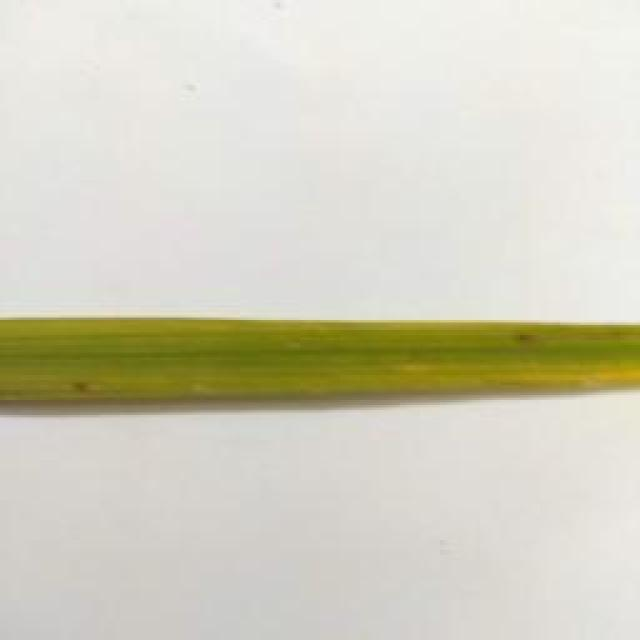Brown_Spot: (61, 374, 129, 404), (505, 325, 544, 348)
